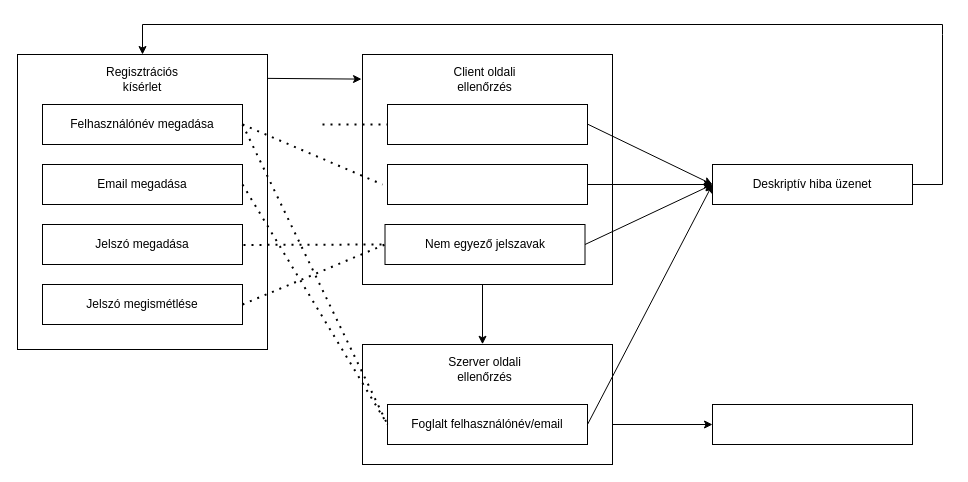
Image size: 968x482. Some labels were removed from this diagram. The box of each missing label's shape, as (x1, y1, x2, y2) in pixels:
Sikeres regisztráció: (712, 404, 912, 444)
Érvénytelen email: (386, 164, 588, 204)
Üres mező: (386, 104, 588, 144)
